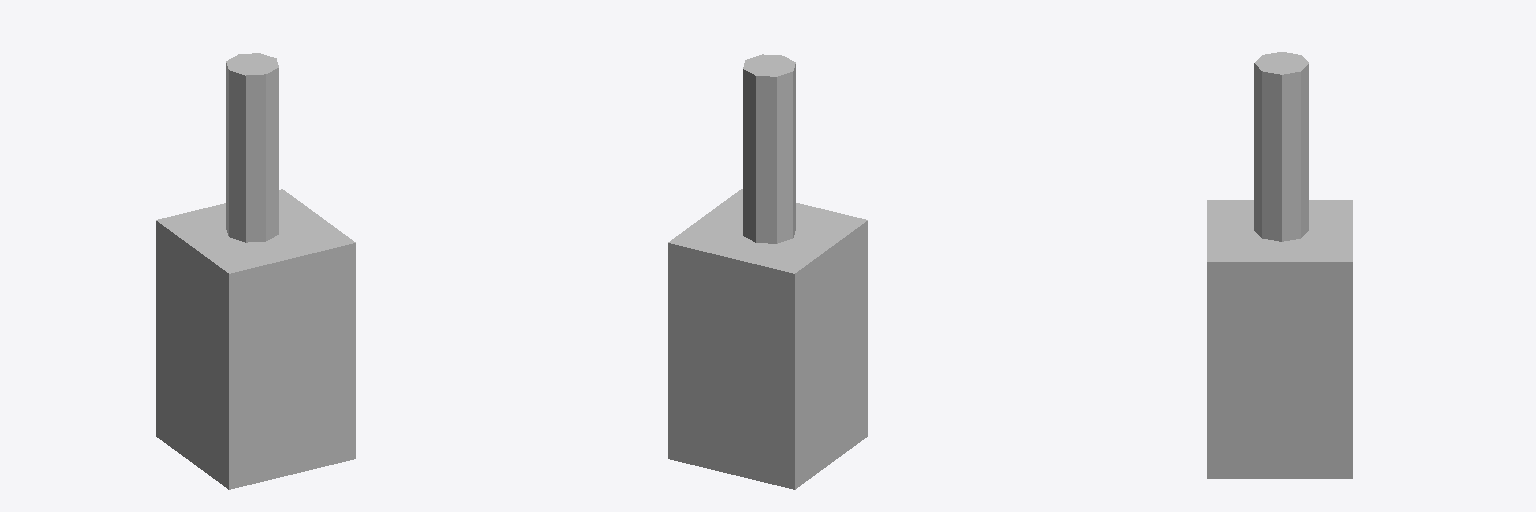
Rendered from Bottle.obj.
3 renders of one model, left to right at view 1: azimuth 30°, elevation 25°; view 2: azimuth 150°, elevation 25°; view 3: azimuth 270°, elevation 25°, orthographic.
Parts seen in each view (by area): view 1: Cube, Cylinder; view 2: Cube, Cylinder; view 3: Cube, Cylinder.
Part boxes in pixels (x1,y1,x2,y2): Cube: (156,189,355,489); Cylinder: (226,53,278,242); Cube: (668,189,867,489); Cylinder: (743,54,795,243); Cube: (1207,200,1352,478); Cylinder: (1254,52,1308,241).
Bounding box in the file's own units: 0.08 × 0.2305 × 0.08.